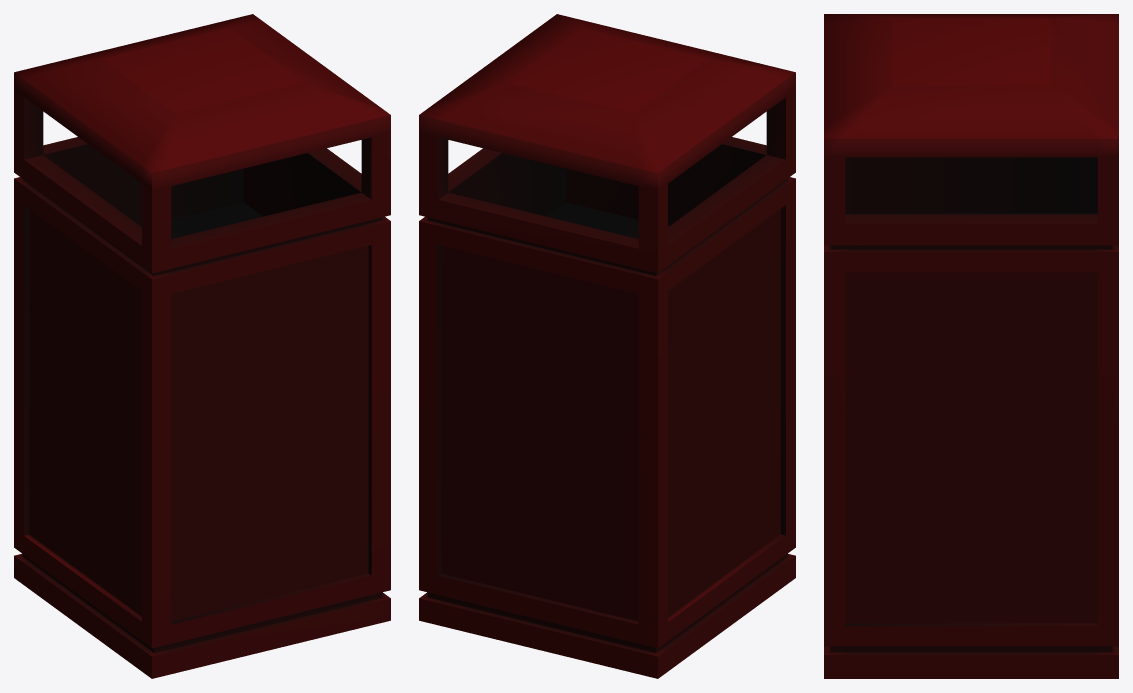
Rendered from PublicTrashCan.glb.
3 views of the same model, side by side, from view 1: azimuth 30°, elevation 25°; view 2: azimuth 150°, elevation 25°; view 3: azimuth 270°, elevation 25° (orthographic). The views are drawn at different scales.
Visible parts, largest first — view 1: PublicTrashCan; view 2: PublicTrashCan; view 3: PublicTrashCan.
Part boxes in pixels (x1,y1,x2,y2): PublicTrashCan: [14, 14, 390, 678]; PublicTrashCan: [419, 14, 795, 678]; PublicTrashCan: [824, 14, 1118, 678].
Bounding box in the file's own units: 2.53 × 5.35 × 2.53.
